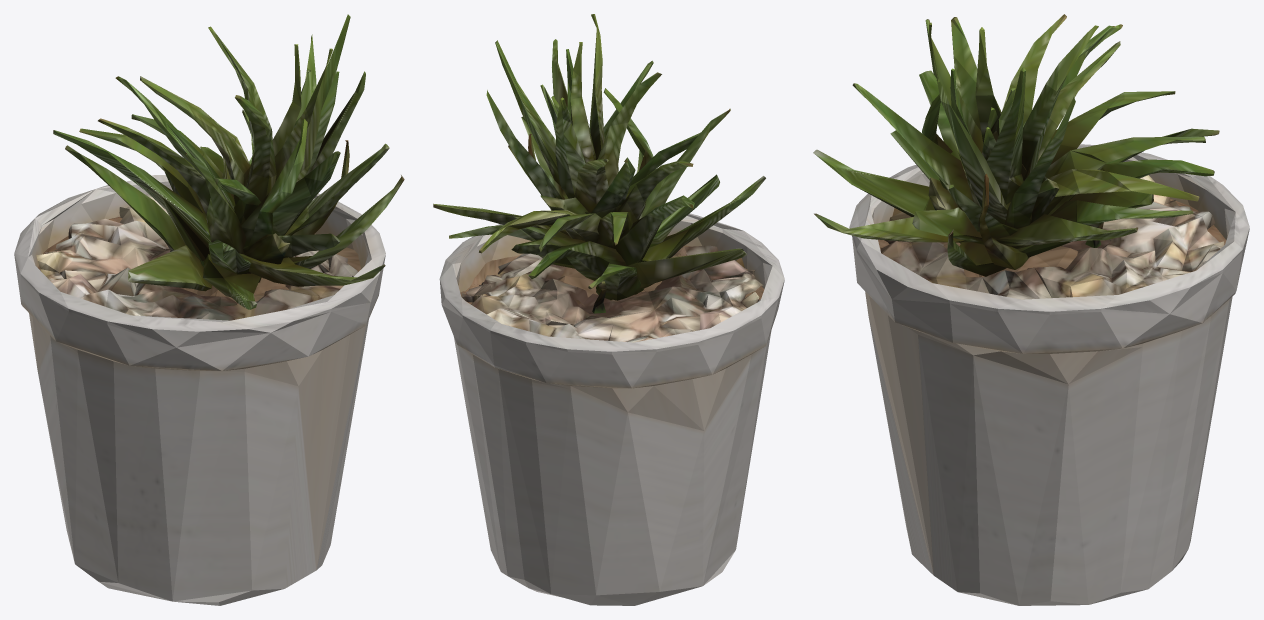
The model's file is simplified.gltf.
The picture shows the model from 3 angles, left to right: view 1: azimuth 30°, elevation 25°; view 2: azimuth 150°, elevation 25°; view 3: azimuth 270°, elevation 25°; orthographic projection. The views are drawn at different scales.
Visible parts, largest first — view 1: potted_plant_04; view 2: potted_plant_04; view 3: potted_plant_04.
Part boxes in pixels (bbox=[...]): potted_plant_04: bbox=[14, 14, 404, 605]; potted_plant_04: bbox=[433, 14, 784, 605]; potted_plant_04: bbox=[813, 14, 1249, 605].
Size of the model in its own units: 0.1703 by 0.2685 by 0.1857.
1 material, 1 textured.
